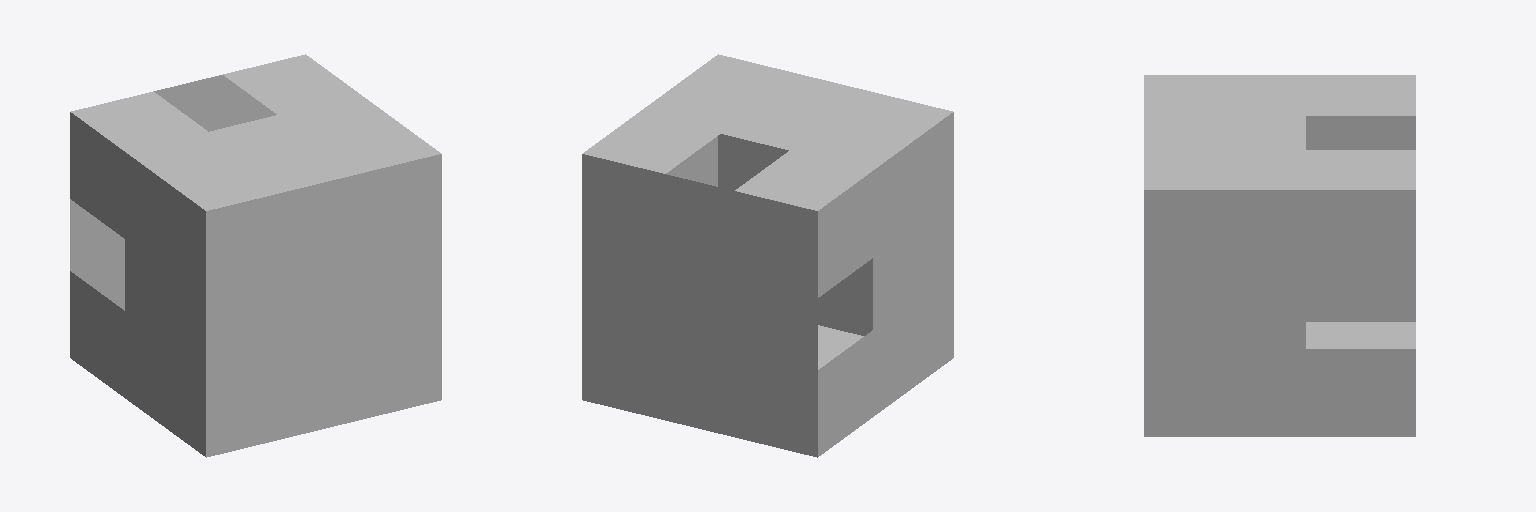
Rendered from roomLarge.obj.
3 views of the same model, side by side, from view 1: azimuth 30°, elevation 25°; view 2: azimuth 150°, elevation 25°; view 3: azimuth 270°, elevation 25° (orthographic).
Visible parts, largest first — view 1: Room; view 2: Room; view 3: Room.
Boxes of the visible parts, <box> form: Room: <box>70,54,441,457</box>; Room: <box>582,54,953,457</box>; Room: <box>1144,75,1415,436</box>.
Bounding box in the file's own units: 60 × 60 × 60.